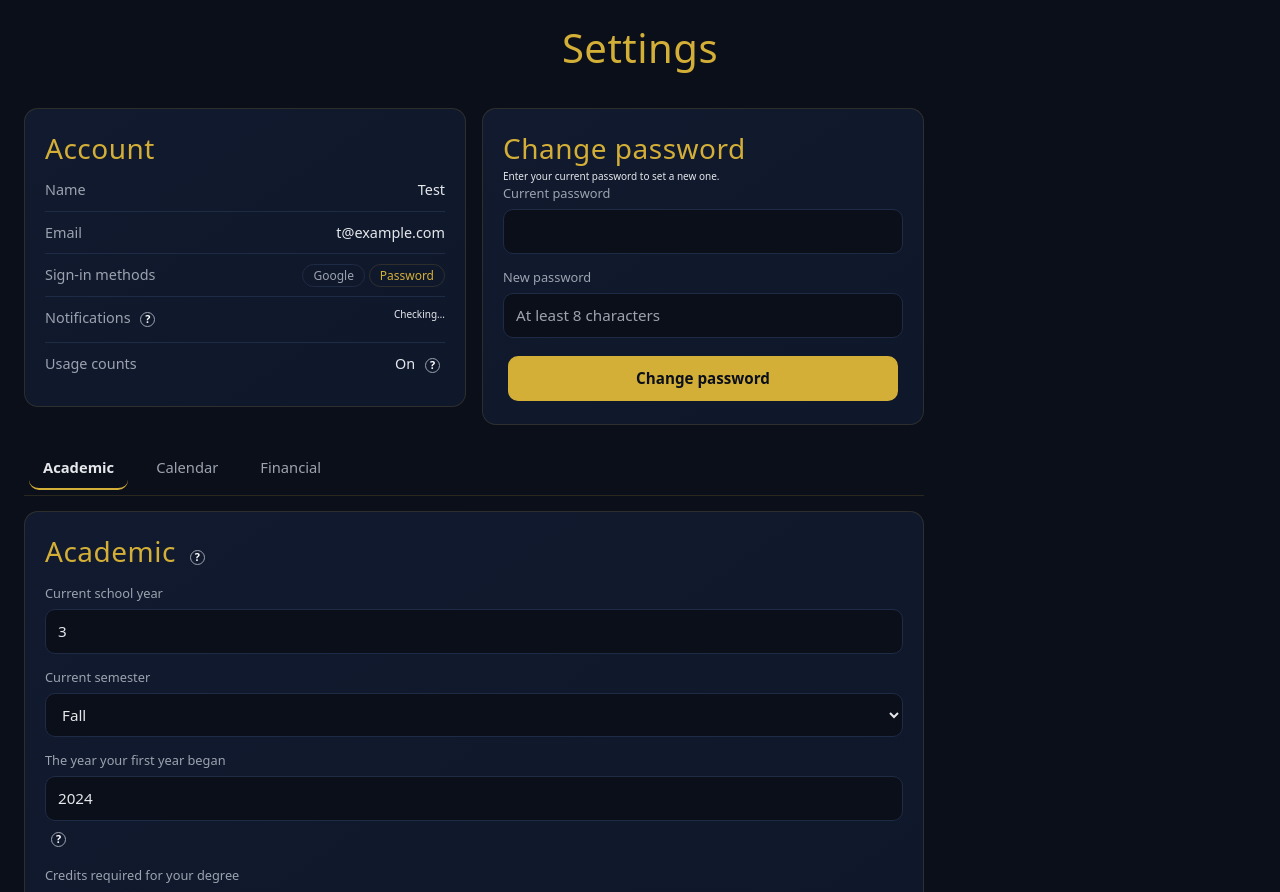
Scenario: event colours › offers a colour for every kind, labelled
Click the tab "Calendar" at {"x": 187, "y": 468}, box x1=142 y1=446 x2=232 y2=490
(page scrolled)
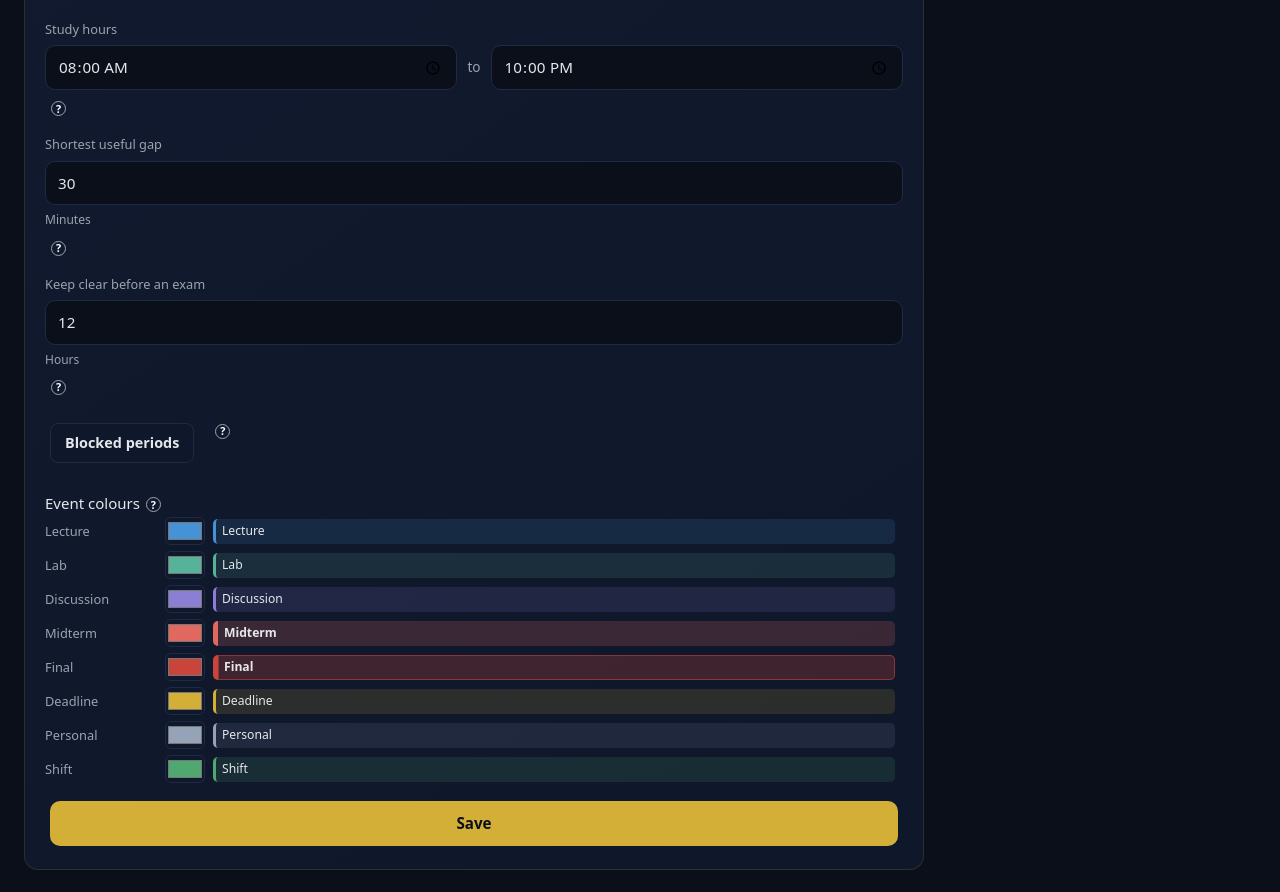
Check: the colour field labelled "Lecture" is shown, box x1=165 y1=518 x2=205 y2=546
Check: the colour field labelled "Lab" is shown, box x1=165 y1=552 x2=205 y2=580
Check: the colour field labelled "Discussion" is shown, box x1=165 y1=586 x2=205 y2=614
